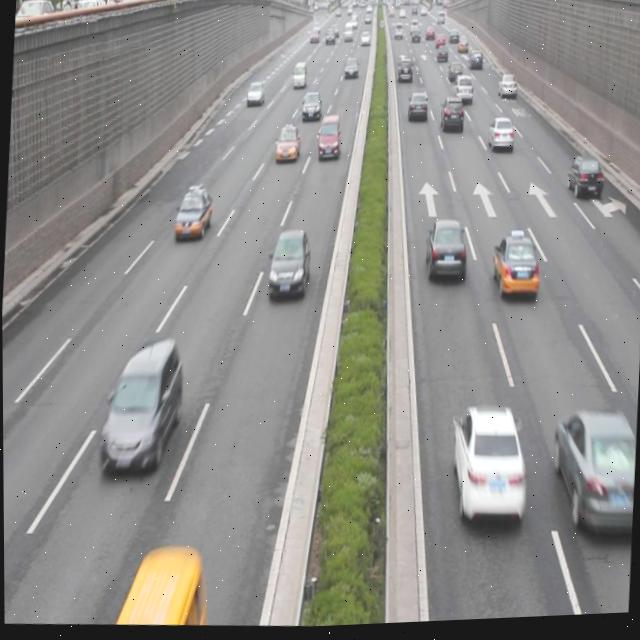car: (98, 337, 183, 479), (548, 411, 637, 538), (446, 404, 529, 532), (491, 237, 541, 305), (267, 229, 311, 306), (422, 221, 468, 290), (172, 187, 213, 243), (565, 156, 603, 207), (486, 117, 515, 156), (438, 99, 465, 139), (274, 125, 300, 164), (407, 93, 429, 129), (300, 94, 321, 125)
truck: (317, 117, 342, 162)
